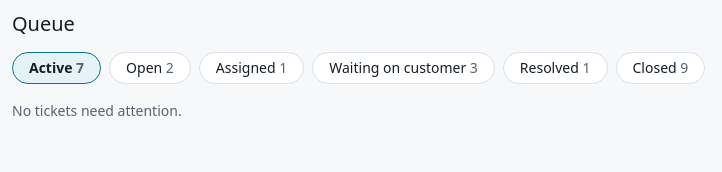
QueuePage › choosing a filter asks for that status
Expected: the text "No tickets need attention." is shown, [12,101,182,120]
Click the link "Resolved 1" at (555, 68), box [503,52,608,84]
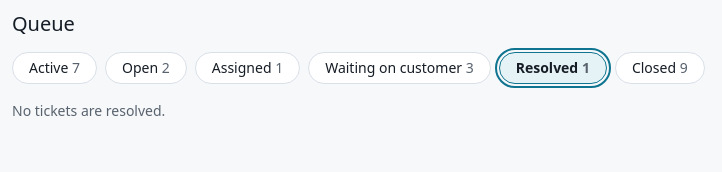
Result: the text "No tickets are resolved." is shown at [12,101,165,120]
